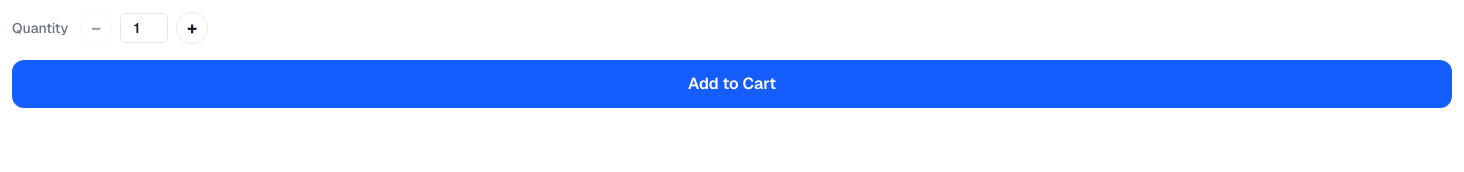
Scenario: AddToCartButton › increment button is disabled when quantity equals stockQuantity
Click the button named "Increase quantity" at (192, 28), box [176,12,208,44]
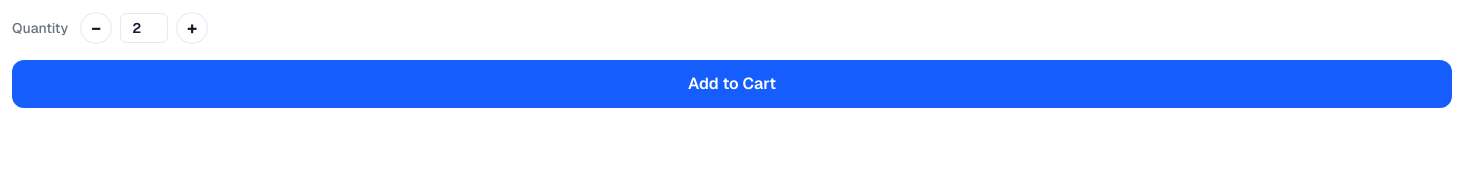
Click the button named "Increase quantity" at (192, 28), box [176,12,208,44]
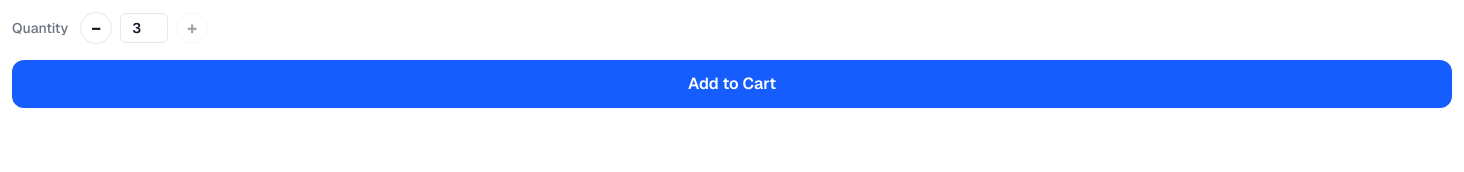
expect the button named "Increase quantity" is disabled: met, box [176,12,208,44]
